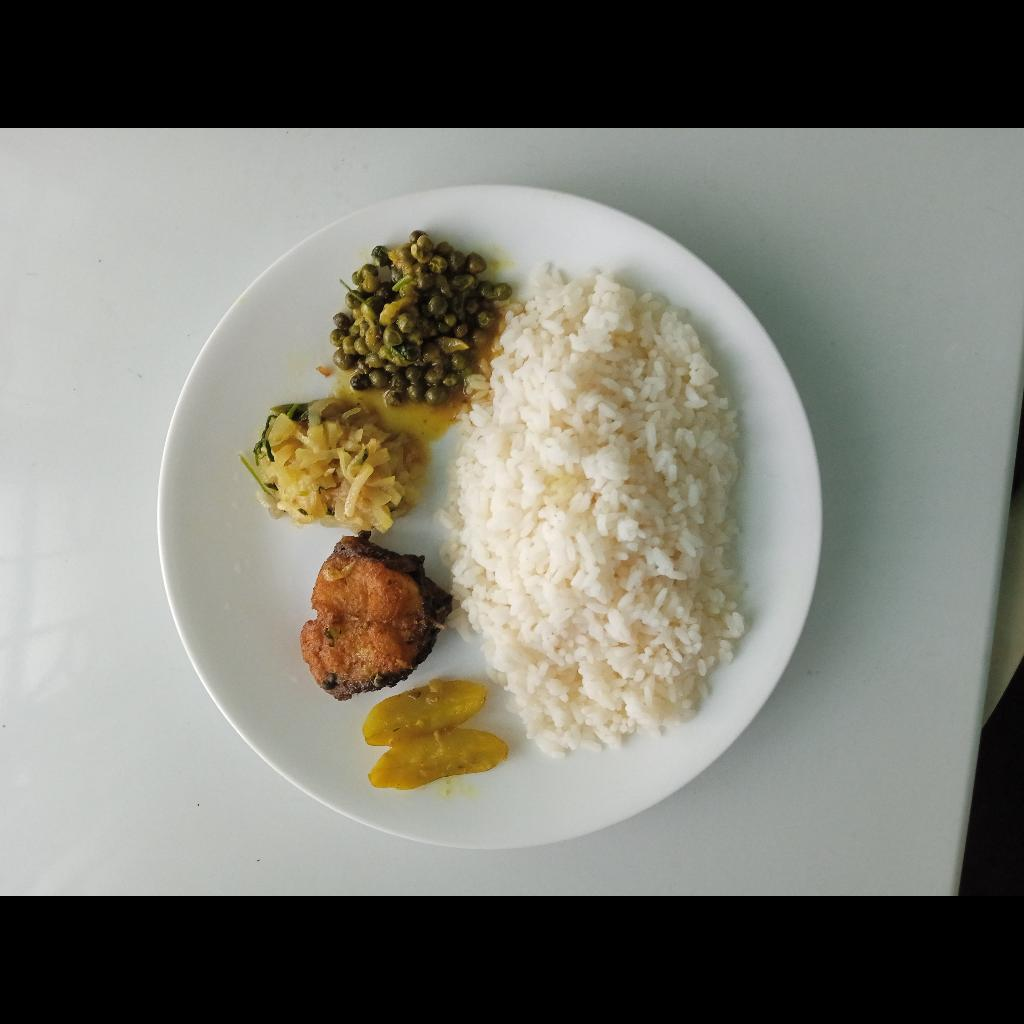cabbage: (253, 396, 423, 535)
fish: (299, 538, 451, 704)
green-pea: (332, 234, 504, 404)
potato: (363, 677, 509, 790)
rice: (440, 277, 744, 757)
